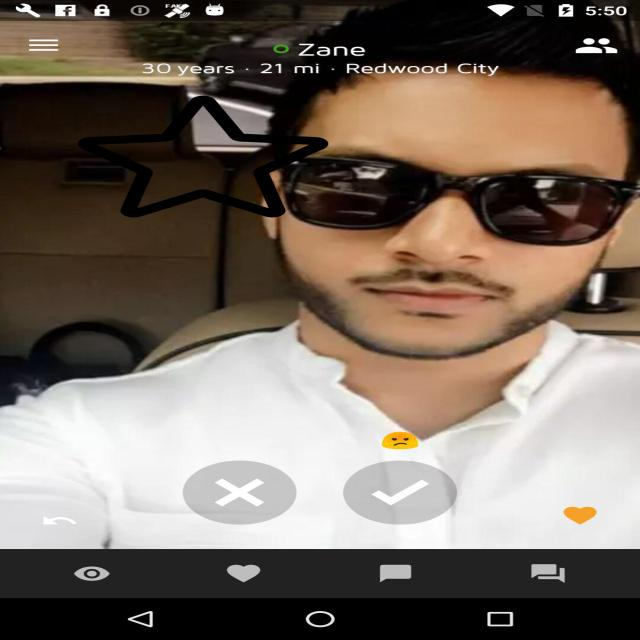forced continuity: (78, 93, 328, 220)
